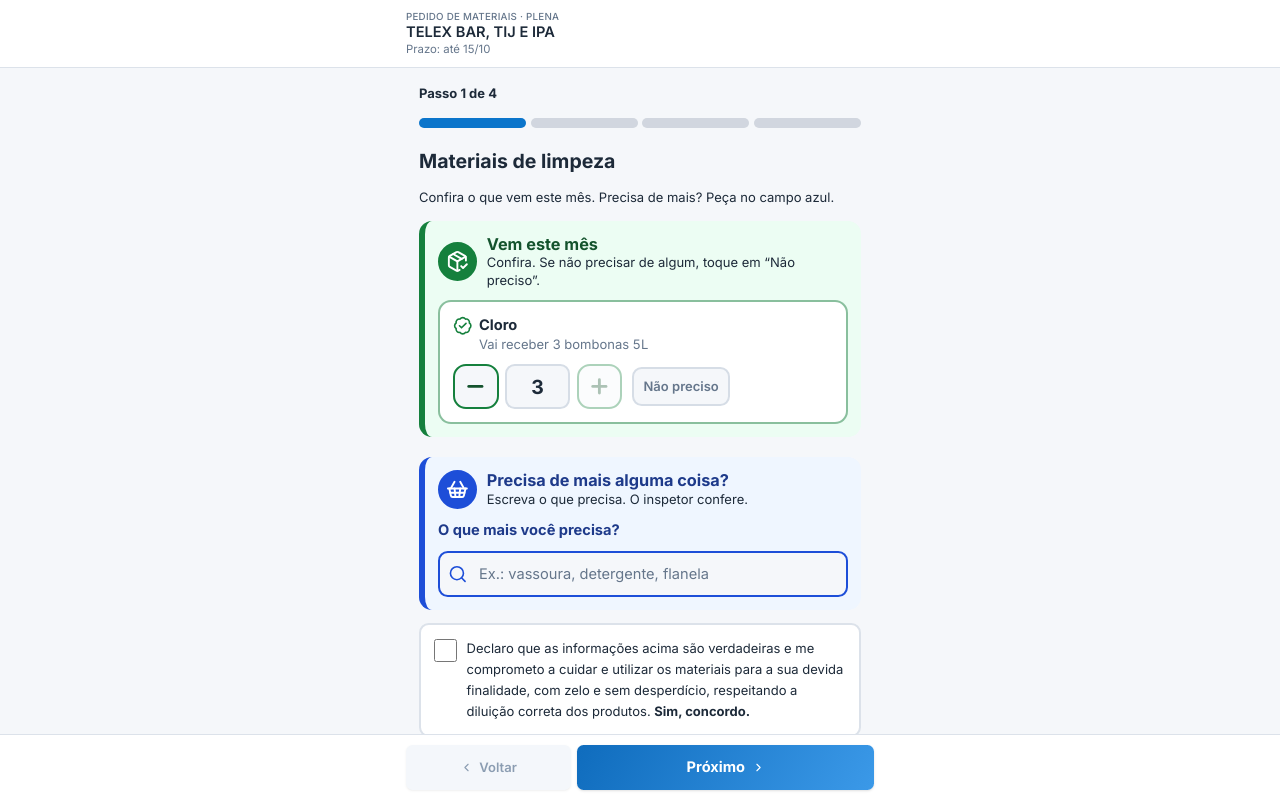
PedidoLiderPage (tela pública do líder) › mostra "Passo X de N" no topo
The width and height of the screenshot is (1280, 800).
Expected: the text "Passo 1 de 4" is shown, [419,84,497,104]
Step 1. Click the button named "Passo 2: Uniformes e EPIs" → {"x": 584, "y": 123}, box [531,110,638,136]
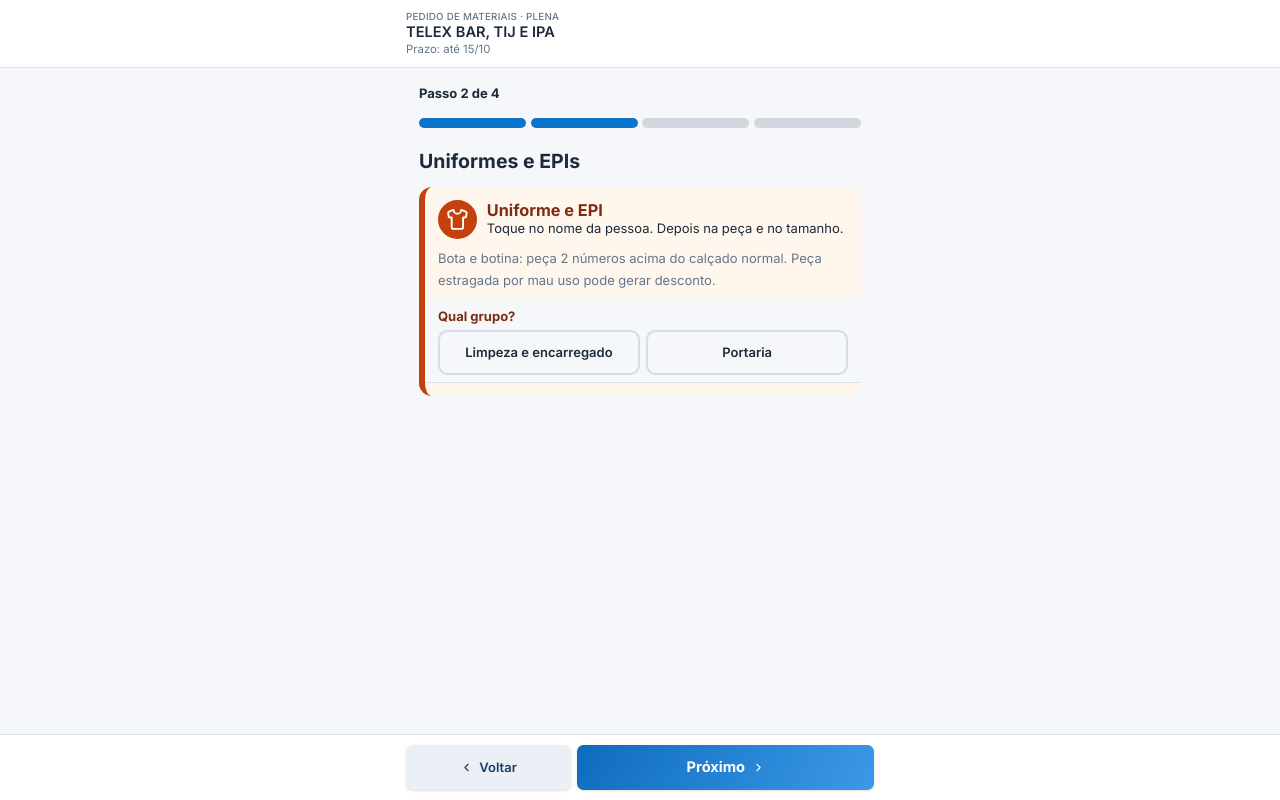
Result: the text "Passo 2 de 4" is shown at [419,84,500,104]
